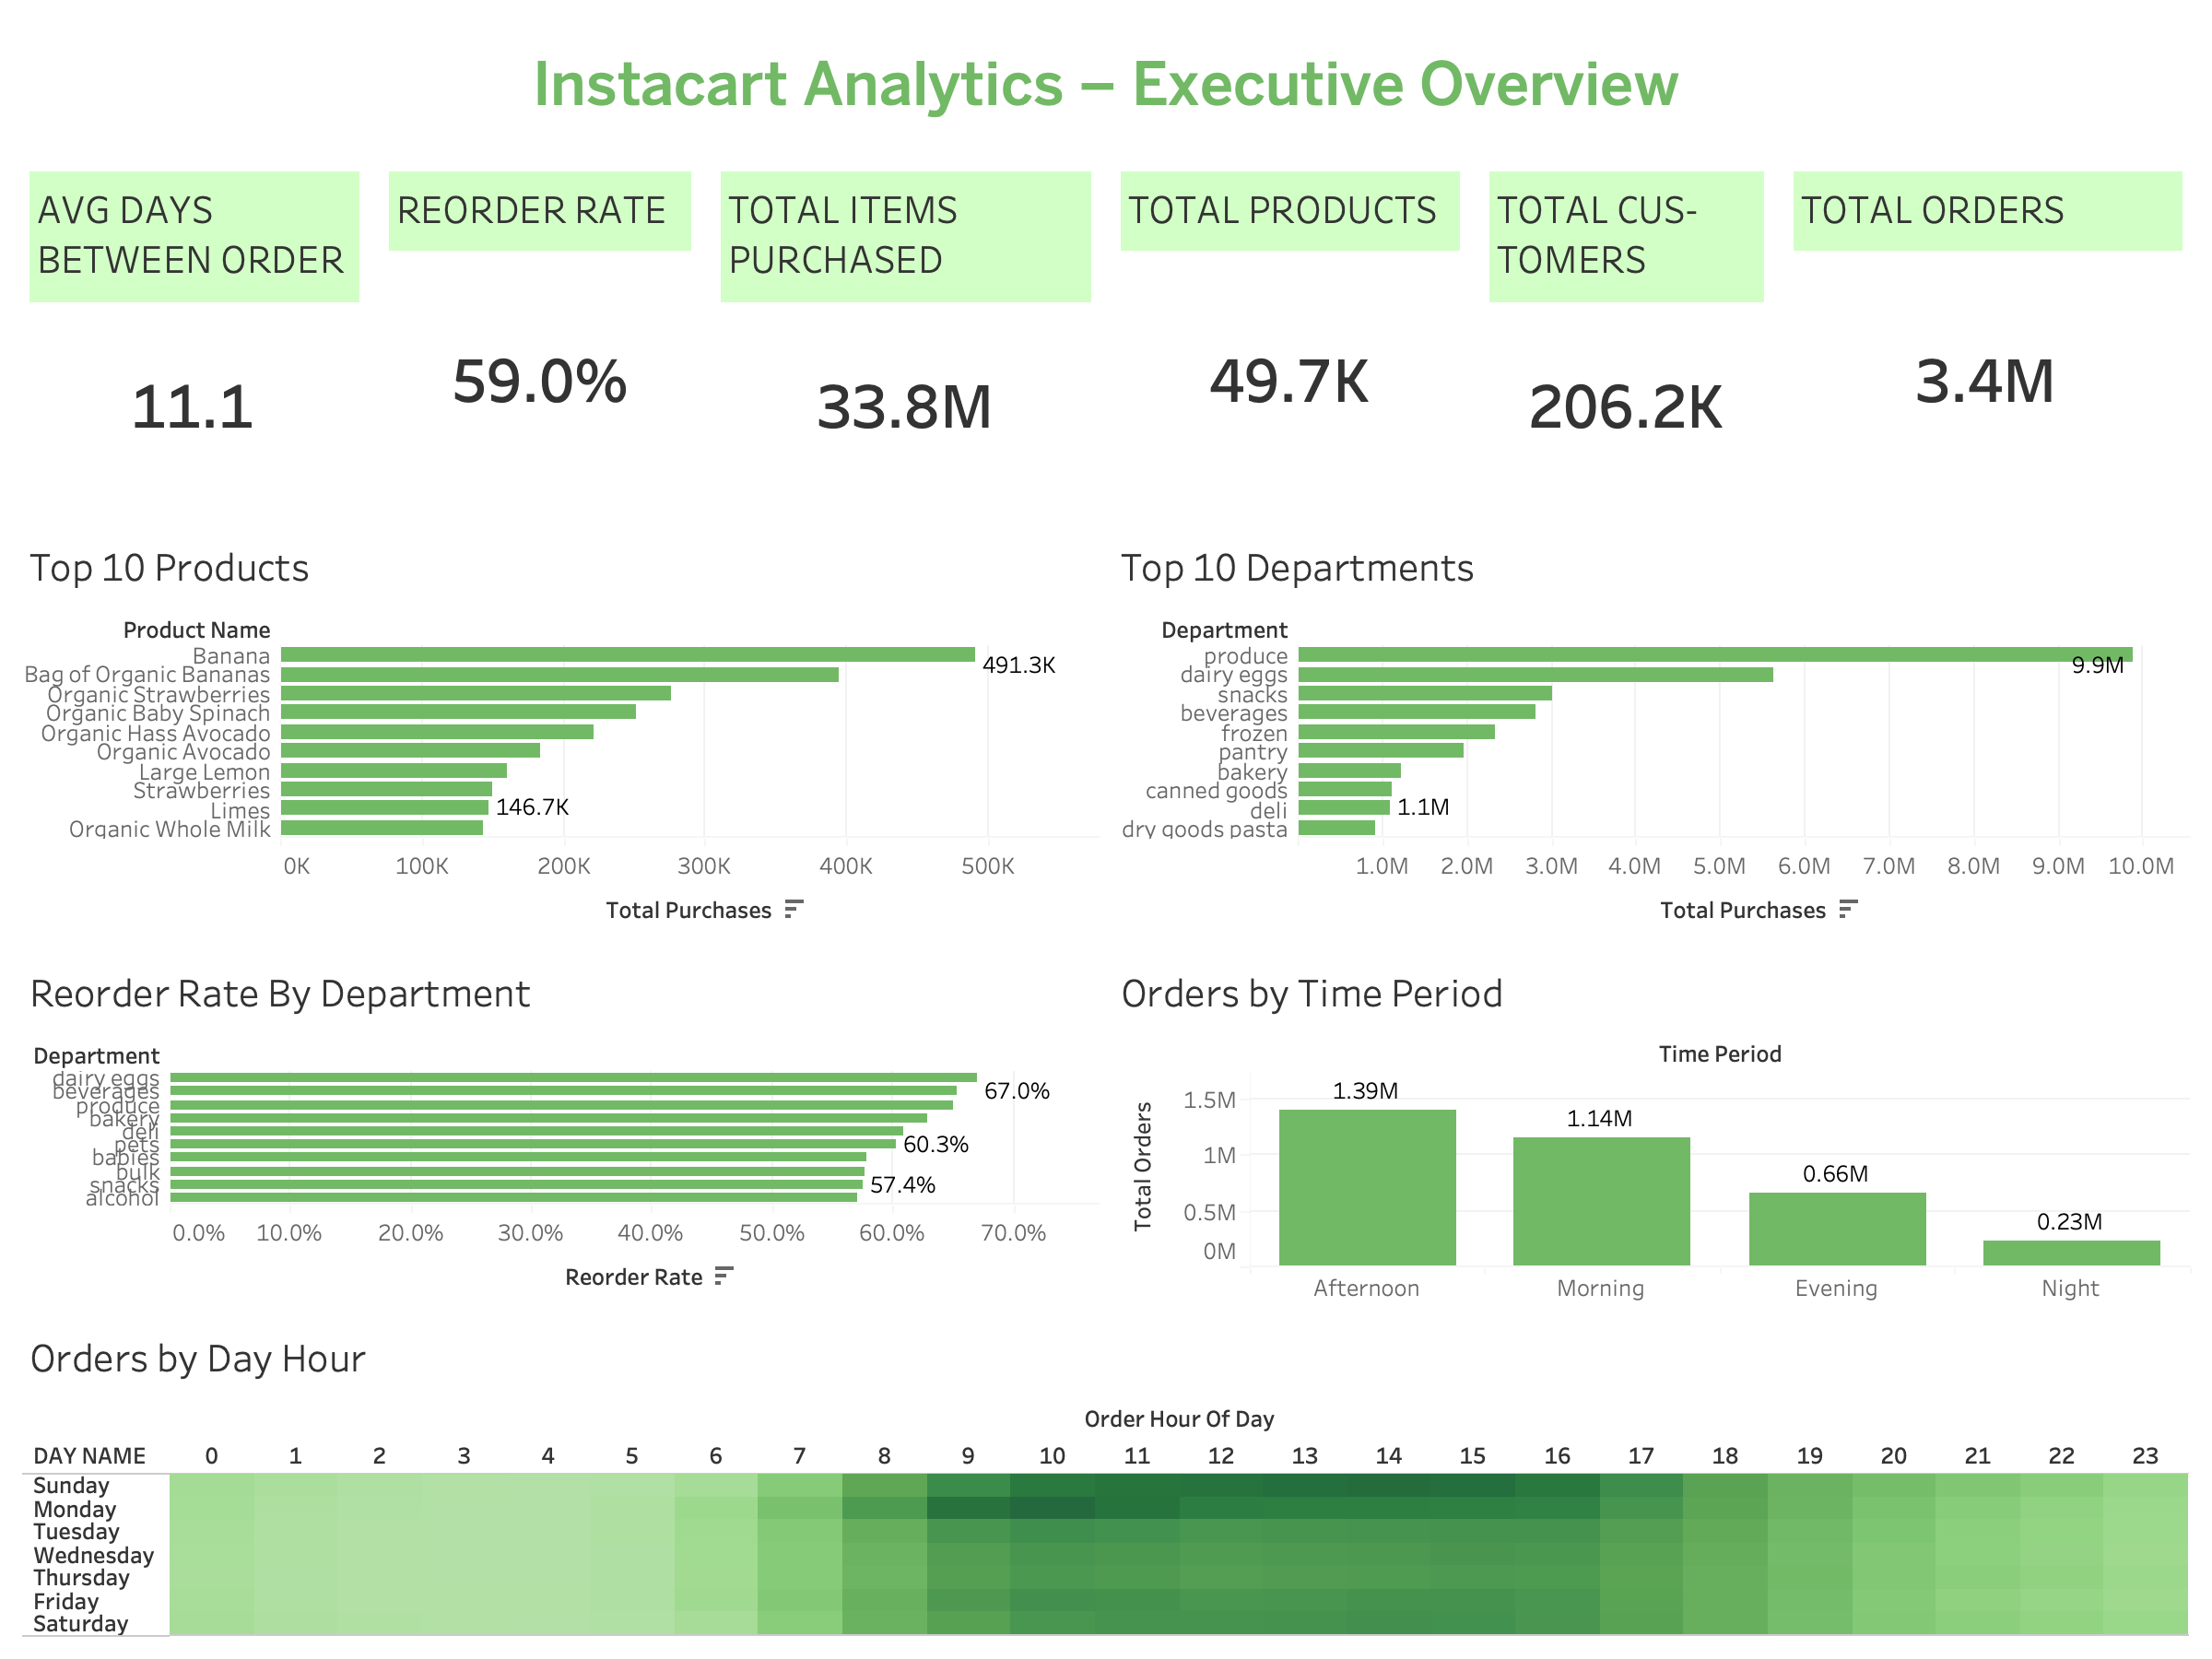

What the dashboard file says about the page in this screenshot:
{"tool":"tableau","page":{"name":"Dashboard 1","canvas":[1200,900],"ordinal":0},"visuals":[{"type":"title","box":[8,8,1184,43]},{"type":"worksheet","title":"KPI - TOTAL PRODUCTS","mark":"Text","box":[8,51,192,150.8]},{"type":"worksheet","title":"KPI - ITEMS ","mark":"Text","box":[200,51,174,150.8]},{"type":"worksheet","title":"KPI - REORDER RATE","mark":"Text","box":[374,51,162,150.8]},{"type":"worksheet","title":"KPI - AVG DAYS BTW ORDER","mark":"Text","box":[536,51,237,150.8]},{"type":"worksheet","title":"KPI - Total Customers","mark":"Text","box":[773,51,227,150.8]},{"type":"worksheet","title":"KPI - Total Orders","mark":"Text","box":[1000,51,192,150.8]},{"type":"worksheet","title":"TOP 10 PRODUCTS","mark":"Automatic","rows":["product_name"],"cols":["total_purchases"],"box":[8,201.8,592,248.7]},{"type":"worksheet","title":"Top 10 Departments by Purchases","mark":"Automatic","rows":["department"],"cols":["total_purchases"],"box":[600,201.8,592,248.7]},{"type":"worksheet","title":"REORDER RATE BY DEPARTMENT","mark":"Automatic","rows":["reorder_rate"],"cols":["department"],"box":[8,450.5,592,224.7]},{"type":"worksheet","title":"ORDERS BY TIME PERIOD","mark":"Automatic","rows":["total_orders"],"cols":["time_period"],"box":[600,450.5,592,224.7]},{"type":"worksheet","title":"ORDER BY DAY AND HOUR","mark":"Square","rows":["Calculation_5460092817334272"],"cols":["order_hour_of_day"],"box":[8,675.3,1184,216.7]}]}

Visuals, with their boxes in screenshot pixels (x1, y1, x2, y2), scaled from the page's 1200x900 canvas onto the 2212x1659 screenshot:
title: 15 15 2197 94
"KPI - TOTAL PRODUCTS" worksheet (Text marks): 15 94 369 372
"KPI - ITEMS " worksheet (Text marks): 369 94 689 372
"KPI - REORDER RATE" worksheet (Text marks): 689 94 988 372
"KPI - AVG DAYS BTW ORDER" worksheet (Text marks): 988 94 1425 372
"KPI - Total Customers" worksheet (Text marks): 1425 94 1843 372
"KPI - Total Orders" worksheet (Text marks): 1843 94 2197 372
"TOP 10 PRODUCTS" worksheet: 15 372 1106 830
"Top 10 Departments by Purchases" worksheet: 1106 372 2197 830
"REORDER RATE BY DEPARTMENT" worksheet: 15 830 1106 1244
"ORDERS BY TIME PERIOD" worksheet: 1106 830 2197 1244
"ORDER BY DAY AND HOUR" worksheet (Square marks): 15 1245 2197 1644
